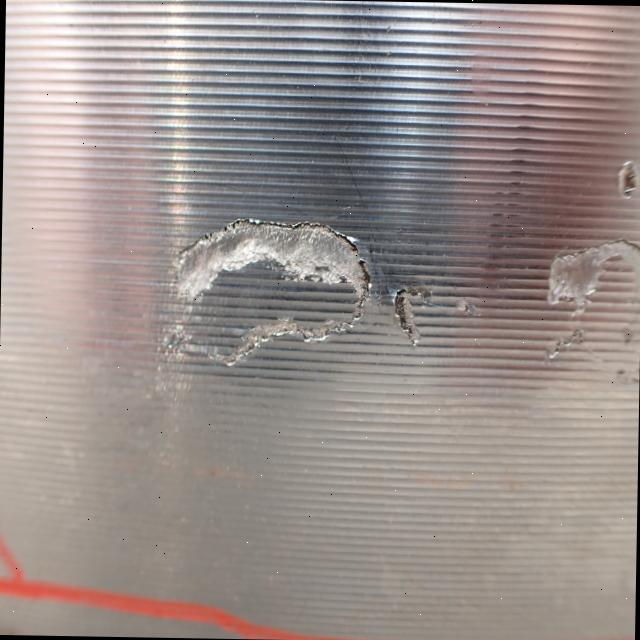Peeling: (166, 217, 368, 361), (548, 238, 640, 314), (391, 286, 426, 346), (617, 157, 638, 201)
